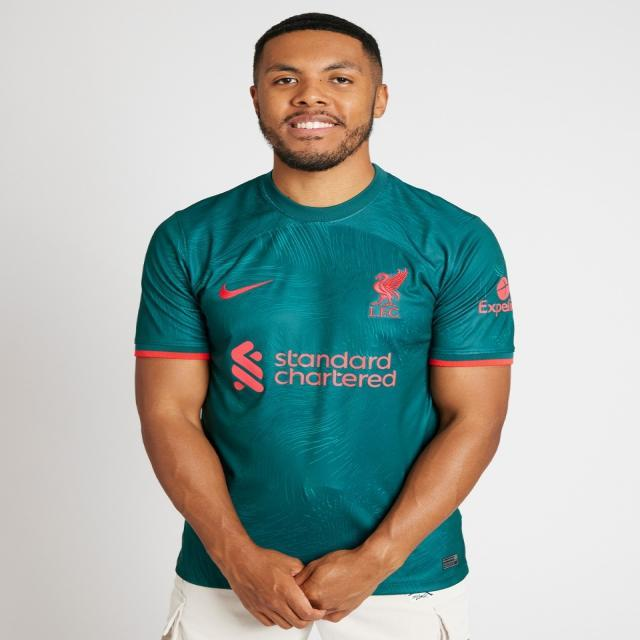Nike: (218, 278, 274, 298)
Standard Chartered: (230, 340, 397, 393)
